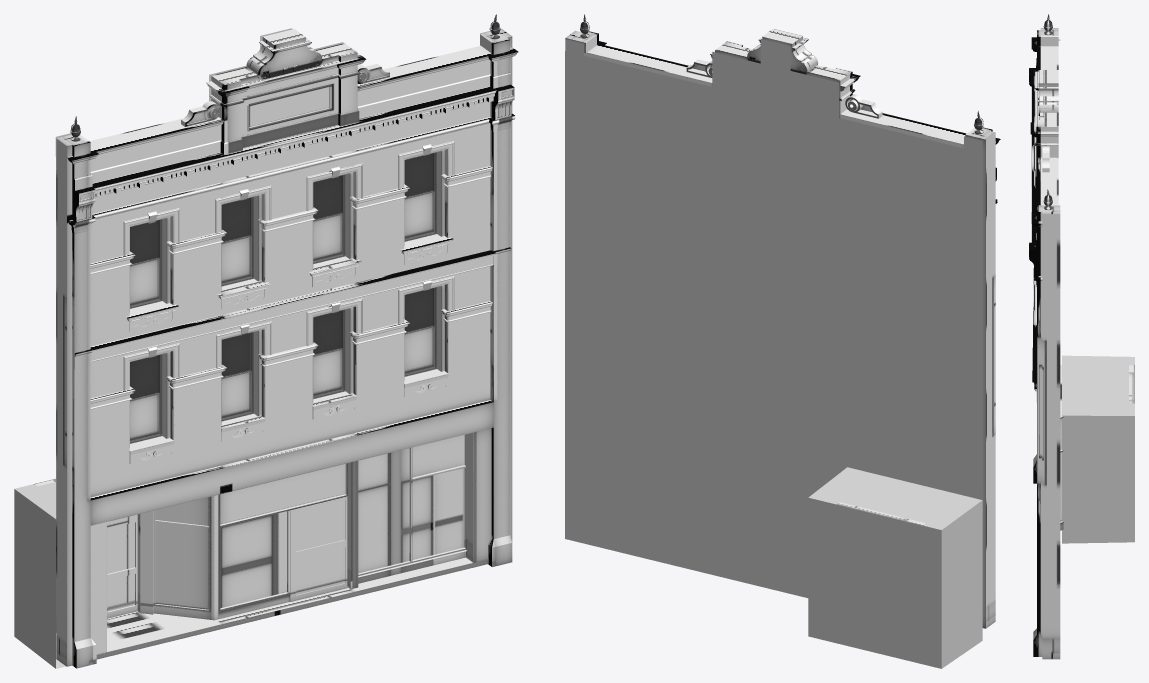
The model's file is Facade.FBX.
The picture shows the model from 3 angles, left to right: view 1: azimuth 30°, elevation 25°; view 2: azimuth 150°, elevation 25°; view 3: azimuth 270°, elevation 25°; orthographic projection. The views are drawn at different scales.
Parts seen in each view (by area): view 1: Facade, Shadowcaster1; view 2: Shadowcaster1, Facade; view 3: Facade, Shadowcaster1.
Boxes of the visible parts, bbox=[...] form: Facade: bbox=[34, 14, 518, 668]; Shadowcaster1: bbox=[14, 28, 490, 668]; Shadowcaster1: bbox=[565, 39, 982, 668]; Facade: bbox=[565, 14, 1000, 628]; Facade: bbox=[1029, 14, 1134, 659]; Shadowcaster1: bbox=[1062, 355, 1134, 543].
Size of the model in its own units: 469 by 586 by 113.
1 material, 1 textured.
